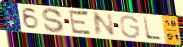6: (21, 7, 40, 31)
E: (68, 9, 94, 37)
G: (119, 14, 141, 39)
L: (142, 16, 163, 42)
N: (92, 12, 117, 37)
S: (41, 7, 65, 34)
